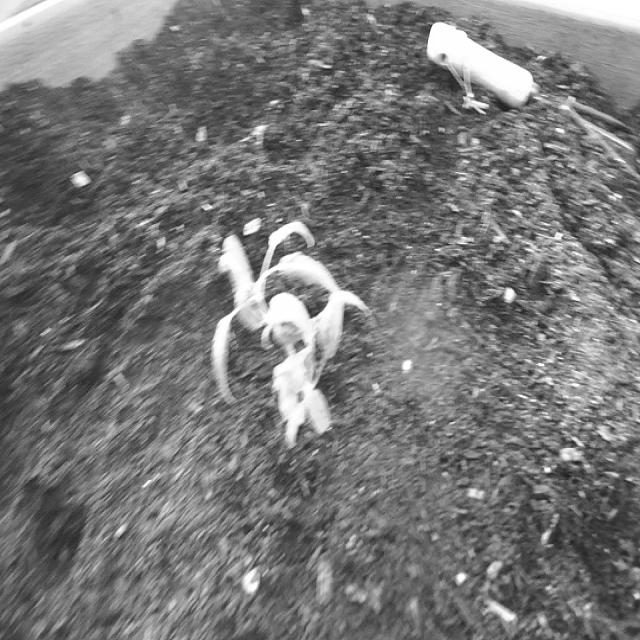Healthy: (213, 217, 376, 455)
